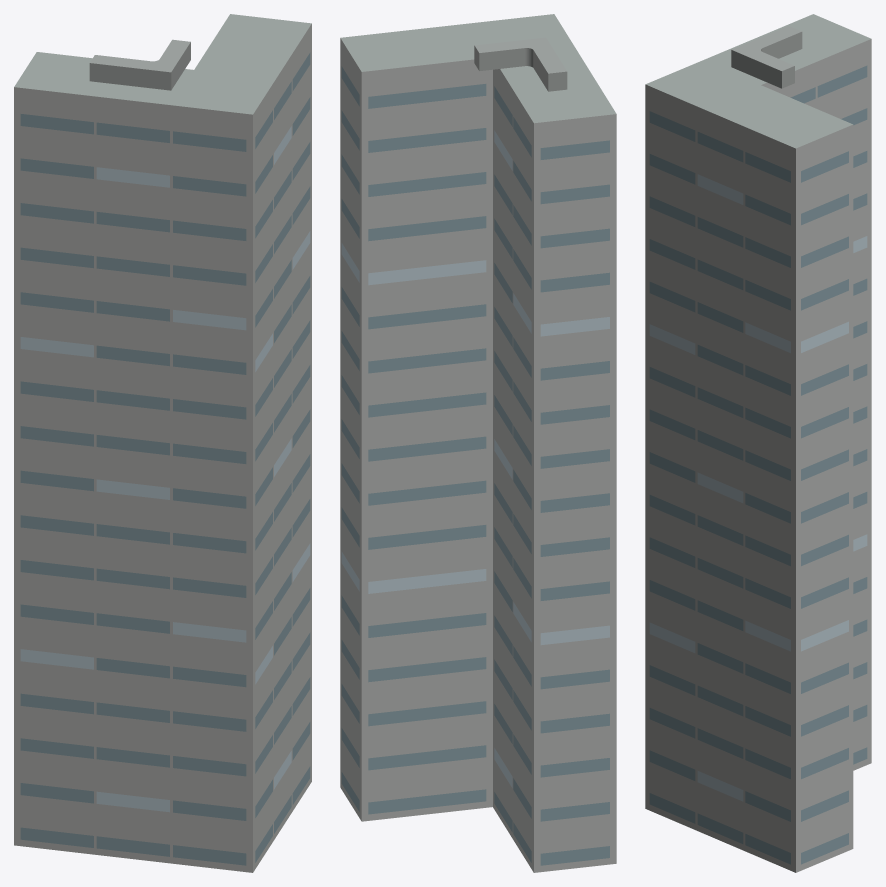
The model's file is fallback-godeok-raemian-hillstate-115.glb.
3 views of the same model, side by side, from view 1: azimuth 30°, elevation 25°; view 2: azimuth 150°, elevation 25°; view 3: azimuth 270°, elevation 25° (orthographic). The views are drawn at different scales.
Parts seen in each view (by area): view 1: fallback-godeok-raemian-hillstate-115; view 2: fallback-godeok-raemian-hillstate-115; view 3: fallback-godeok-raemian-hillstate-115.
Part boxes in pixels (<box>): fallback-godeok-raemian-hillstate-115: <box>14,14,311,872</box>; fallback-godeok-raemian-hillstate-115: <box>340,14,616,872</box>; fallback-godeok-raemian-hillstate-115: <box>645,14,871,872</box>.
Bounding box in the file's own units: 39.68 × 102 × 28.2.
